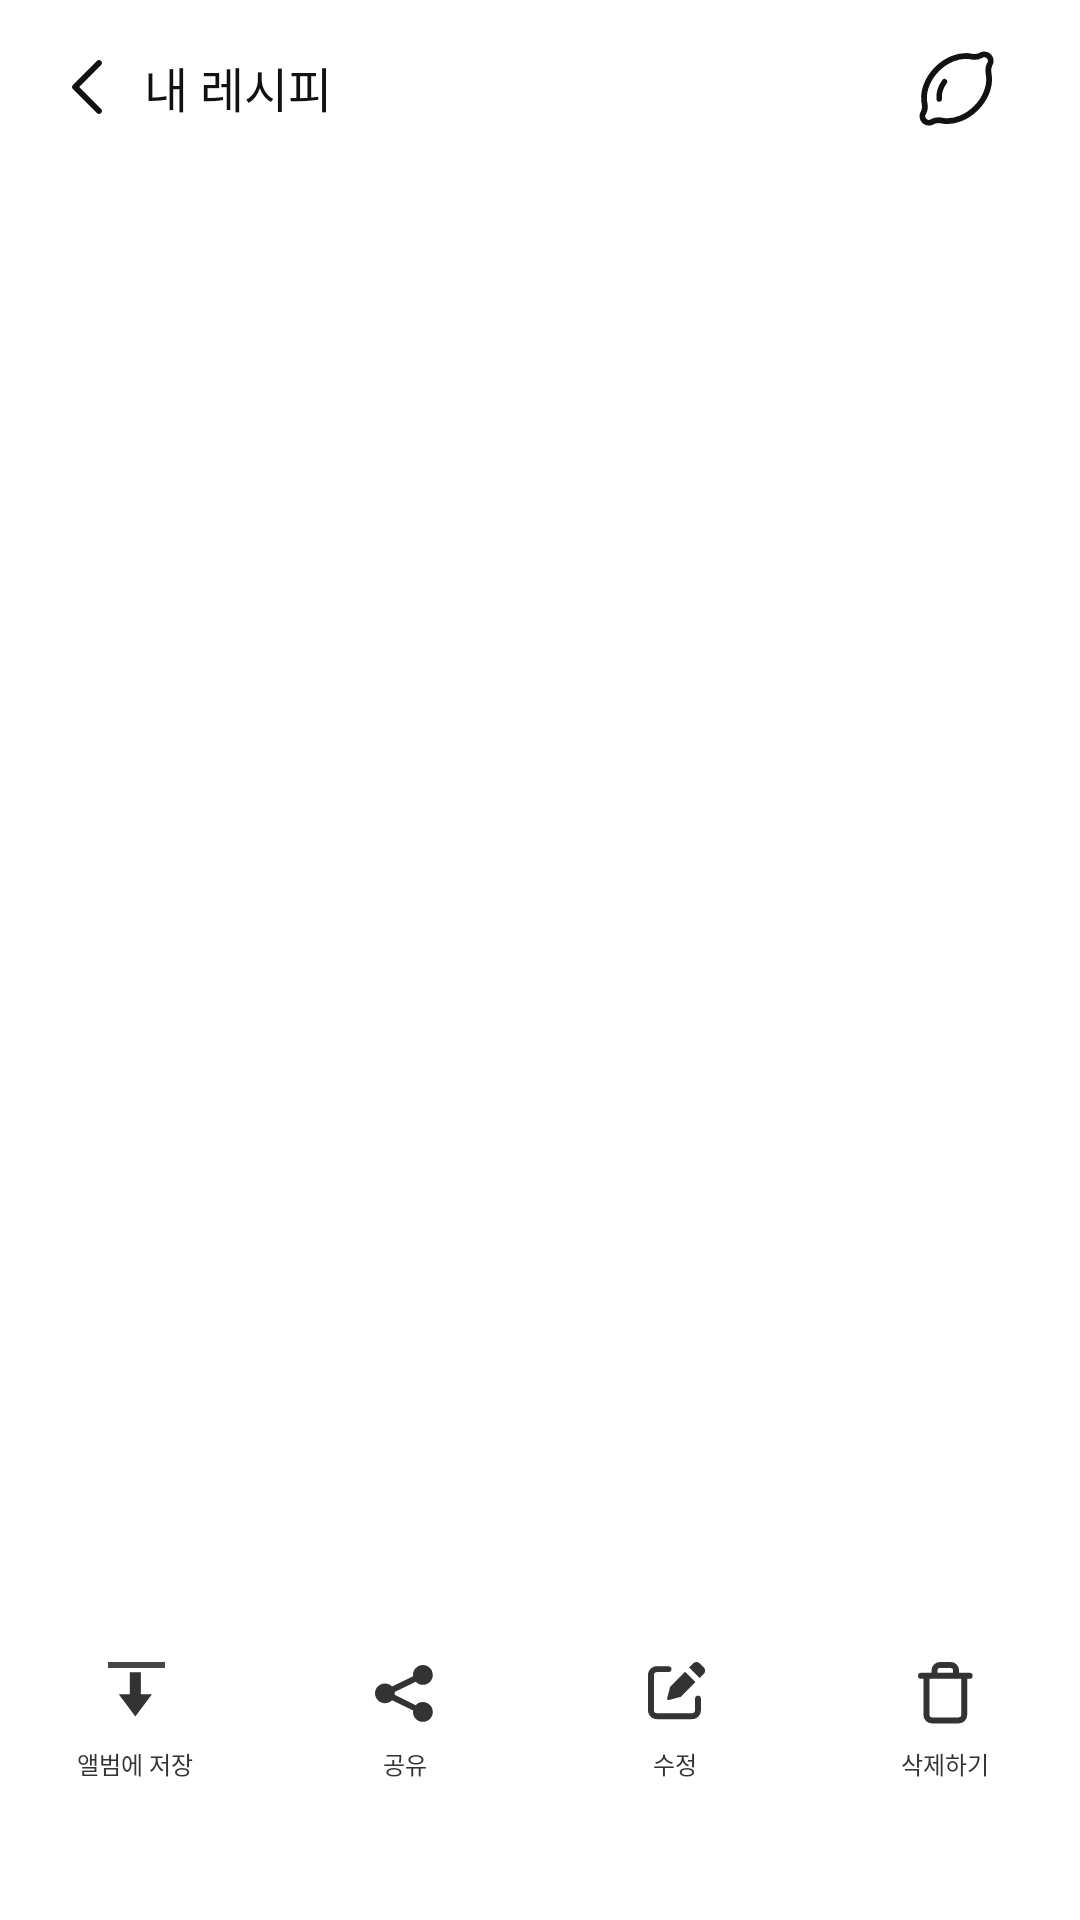

Icons on this 1080x1920 Android screen, each with its box as [left=x1, top=y1, right=x2, bottom=y2]:
back: [left=72, top=60, right=102, bottom=114]
down: [left=108, top=1662, right=165, bottom=1717]
lemon emty: [left=919, top=51, right=994, bottom=126]
trash: [left=918, top=1662, right=973, bottom=1724]
